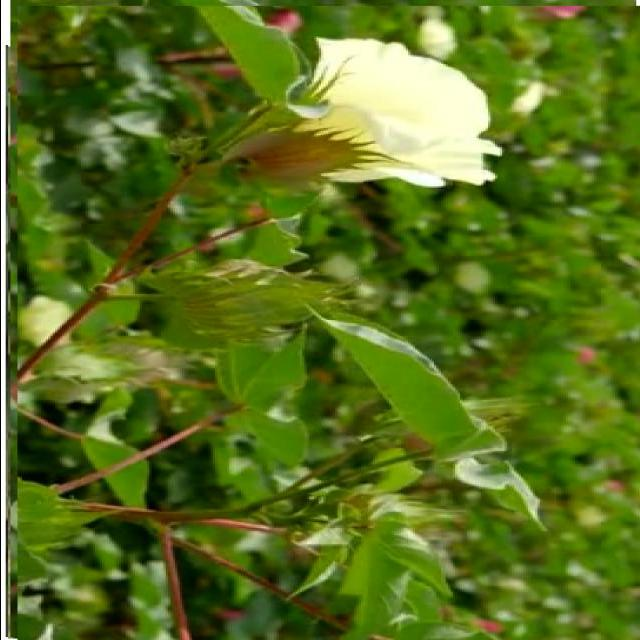Cotton Blossom: (156, 33, 520, 201)
Cotton Bud: (138, 246, 372, 350)
